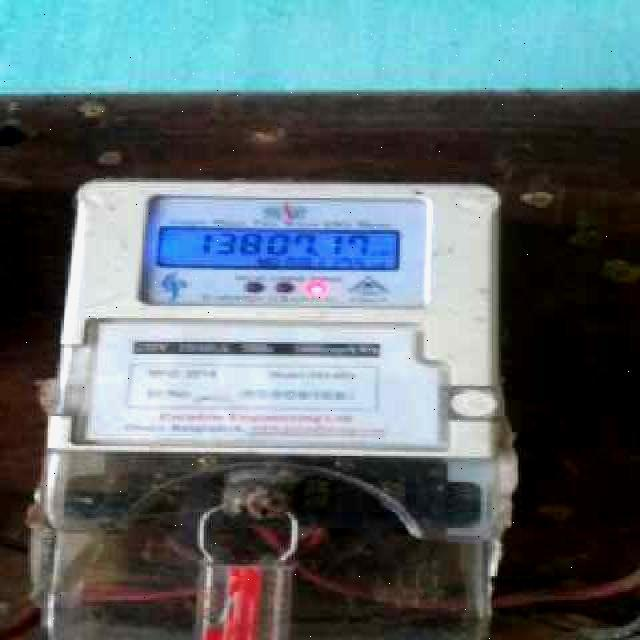LCD: (157, 220, 411, 273)
